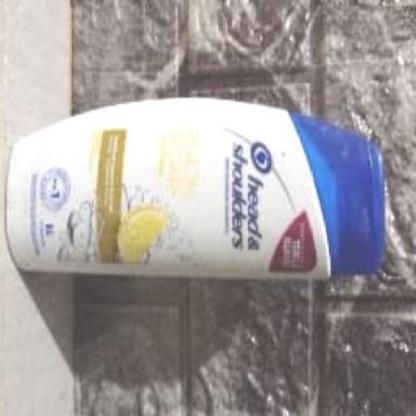objects: (0, 99, 385, 281)
